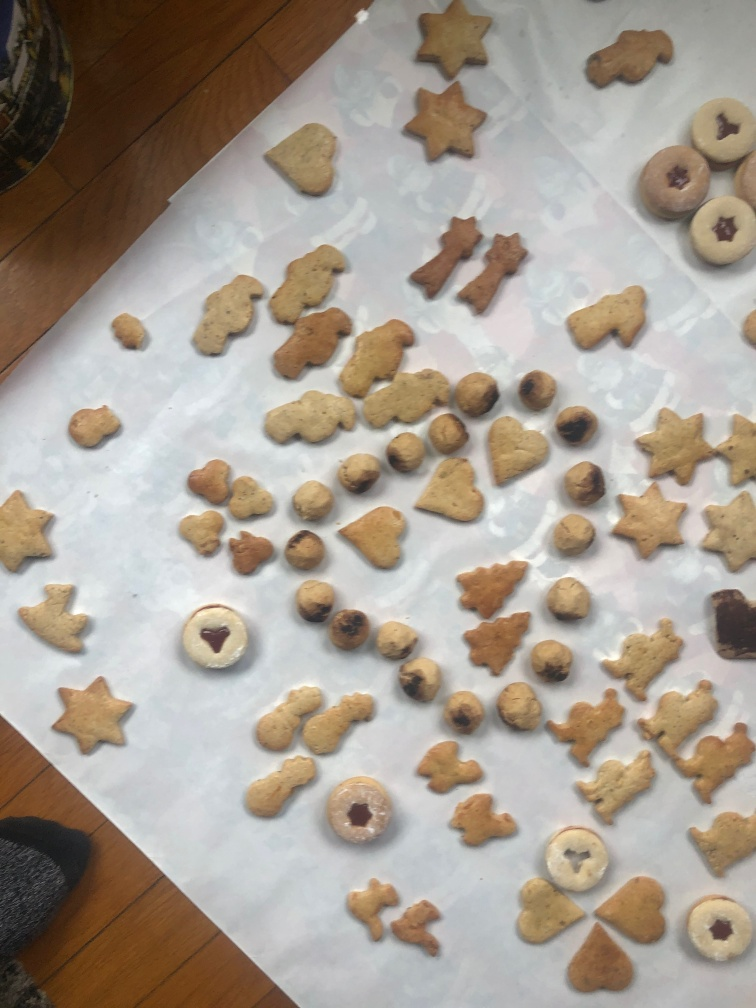angel: (566, 283, 652, 351)
christmas shortbread with jam: (175, 598, 250, 673), (682, 892, 754, 965), (641, 145, 710, 218), (691, 193, 754, 266), (541, 827, 608, 894), (687, 95, 752, 164), (326, 776, 392, 837)
christmas tree: (462, 606, 530, 683), (453, 556, 536, 616)
flake: (225, 528, 280, 577), (187, 457, 236, 505), (175, 508, 226, 554), (230, 471, 275, 523)
heart: (260, 122, 344, 200), (595, 874, 671, 946), (564, 922, 633, 1000), (333, 502, 409, 571), (511, 877, 585, 945), (484, 415, 556, 484), (416, 456, 491, 520)
lamb: (15, 577, 96, 656), (449, 787, 525, 851), (414, 738, 485, 796)
santa claus: (634, 675, 720, 771), (598, 614, 684, 705), (193, 267, 269, 358), (264, 244, 355, 318), (583, 23, 675, 94), (674, 717, 752, 798), (359, 364, 455, 428), (271, 307, 351, 383), (337, 319, 413, 395), (262, 387, 365, 443)
shooting star: (405, 210, 486, 300), (457, 228, 532, 312)
snowball: (542, 572, 596, 634), (393, 653, 447, 703), (528, 632, 576, 685), (549, 512, 598, 560), (552, 400, 597, 451), (560, 461, 610, 506), (498, 683, 542, 733), (292, 578, 336, 628), (516, 367, 559, 418), (375, 616, 420, 663), (326, 606, 371, 652), (459, 371, 498, 415), (447, 689, 486, 732)
snowman: (250, 683, 324, 760), (305, 685, 378, 757), (244, 755, 319, 817), (344, 872, 398, 950), (388, 894, 447, 962)
star: (400, 79, 488, 172), (46, 671, 137, 759), (607, 478, 694, 567), (632, 405, 716, 487), (413, 2, 493, 77), (2, 486, 58, 575), (697, 489, 756, 571), (716, 411, 755, 493)
weird #1: (703, 582, 755, 665)
